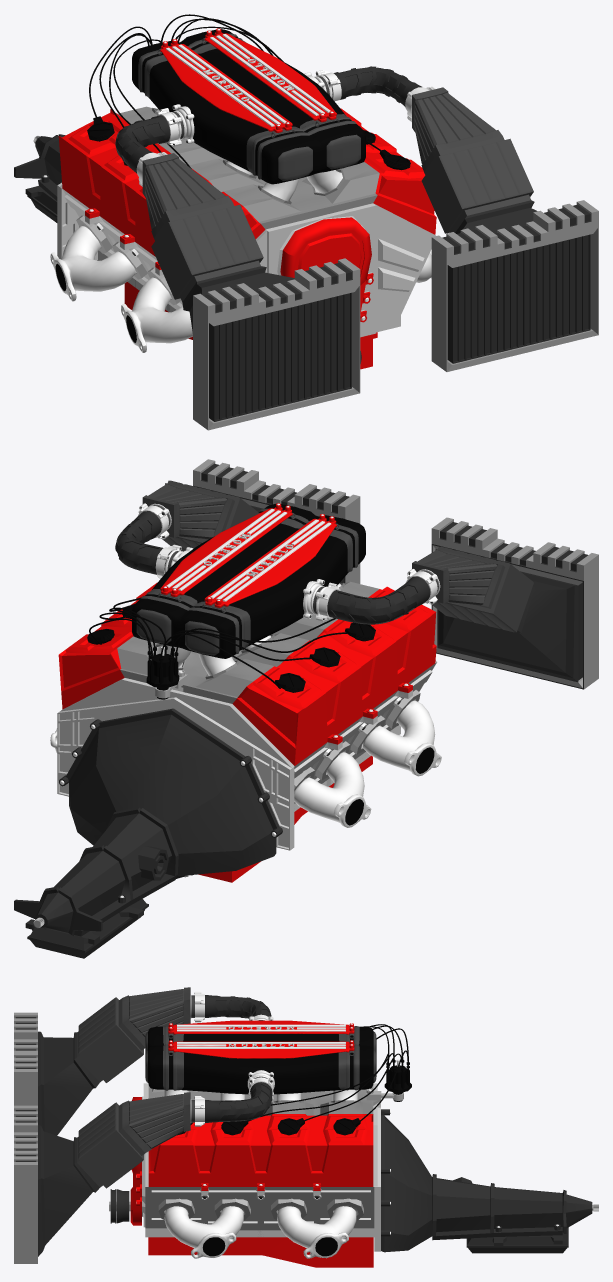
File: ferrariv8.glb
The picture shows the model from 3 angles, top to bottom: view 1: azimuth 30°, elevation 25°; view 2: azimuth 150°, elevation 25°; view 3: azimuth 270°, elevation 25°; orthographic projection. The views are drawn at different scales.
Visible parts, largest first — view 1: RootNode (gltf orientation matrix); view 2: RootNode (gltf orientation matrix); view 3: RootNode (gltf orientation matrix).
Part boxes in pixels (x1,y1,x2,y2): RootNode (gltf orientation matrix): (14, 14, 598, 430); RootNode (gltf orientation matrix): (14, 459, 598, 958); RootNode (gltf orientation matrix): (14, 987, 598, 1267).
Size of the model in its own units: 4.22 by 2.75 by 6.85.
